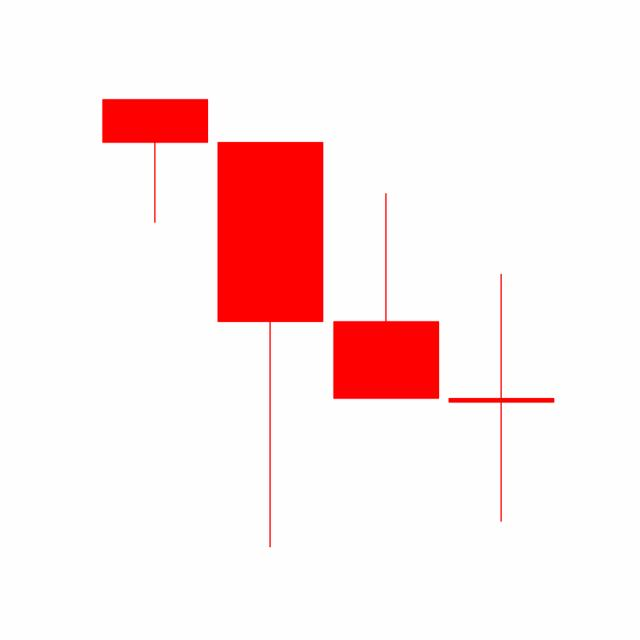Spinning Top: (443, 270, 559, 524)
